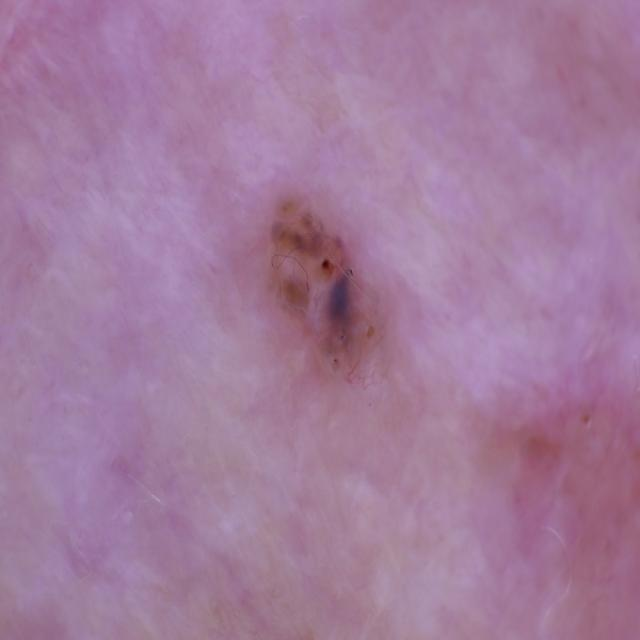Skin-Cancer Basal cell carcinoma: (118, 44, 556, 571)
